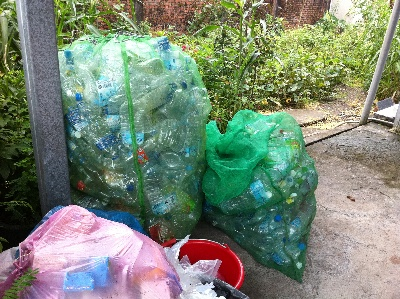plastic_bag: (60, 33, 211, 237), (209, 111, 319, 285), (1, 205, 182, 299)
